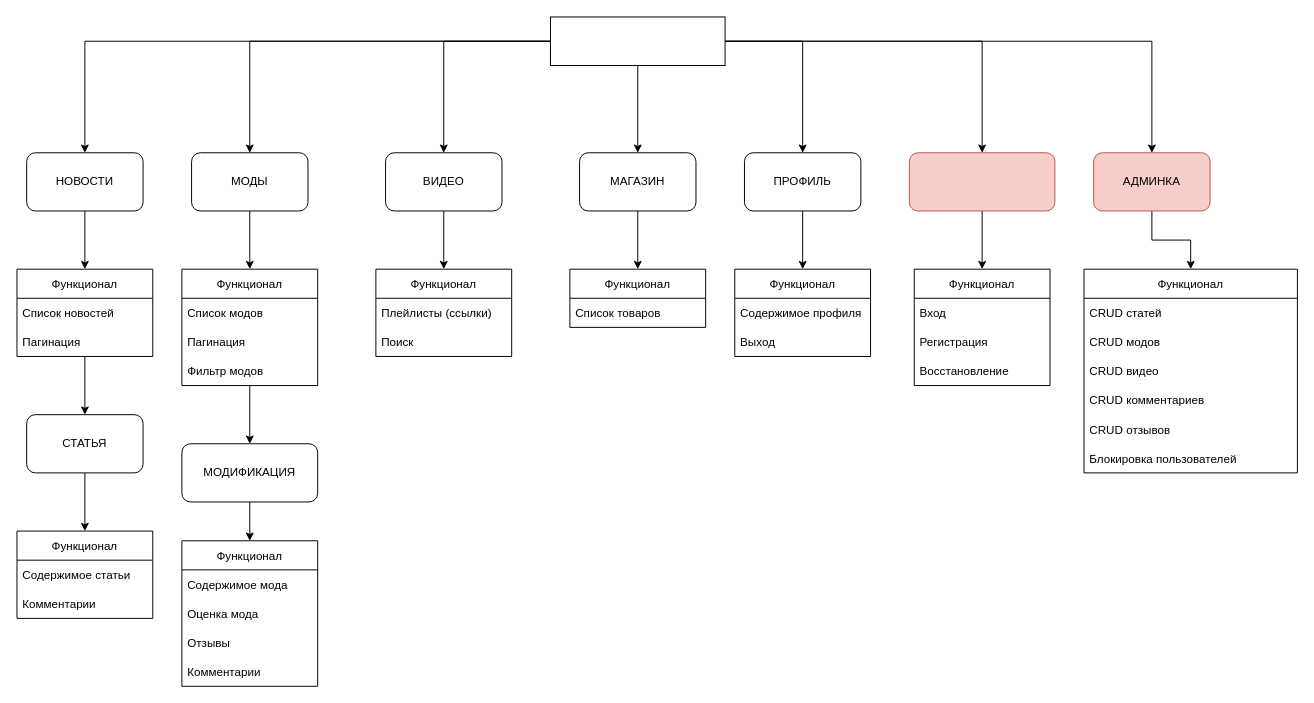
The diagram is 1314 pixels wide and 703 high, and some of its shapes have lost their labels. The shapes that lost their labels are listed below. From the top down, each one's box as (x1, y1, x2, y2) in pixels, then its label:
(550, 16, 725, 65): ГЛАВНАЯ
(908, 152, 1055, 211): АВТОРИЗАЦИЯ
